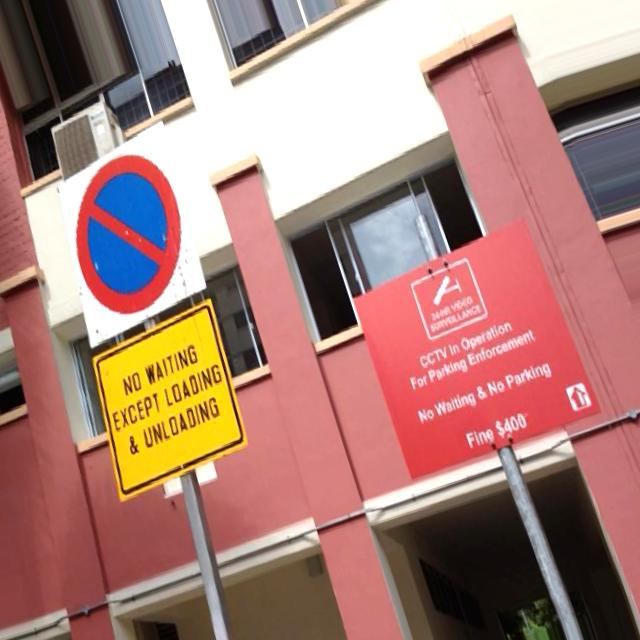forb_stopping: (77, 155, 181, 313)
